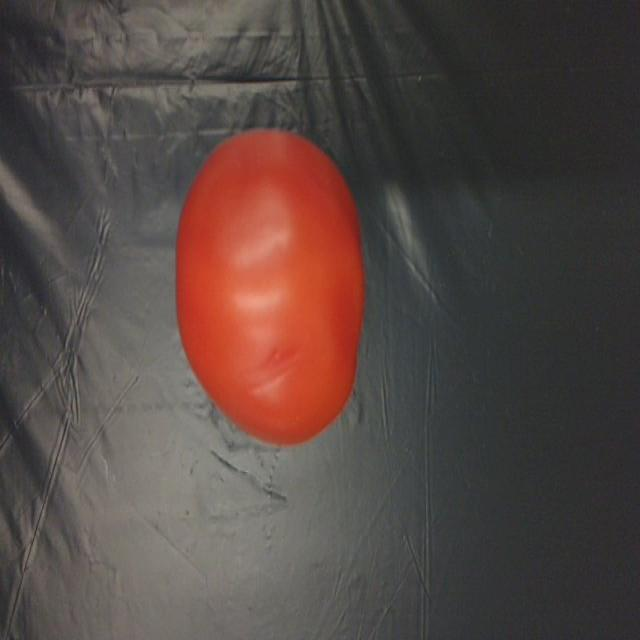kirmizi: (159, 130, 364, 438)
